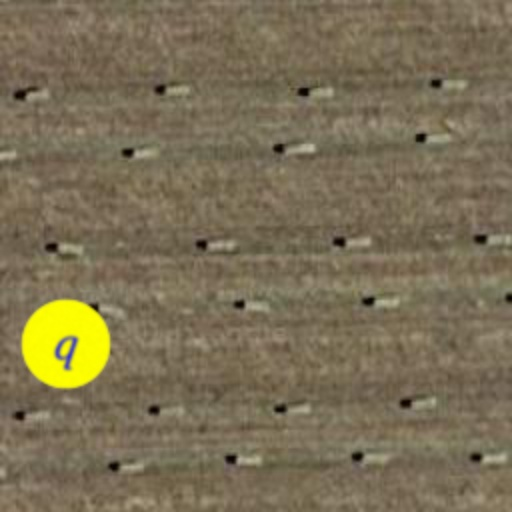circle: (14, 292, 118, 396)
